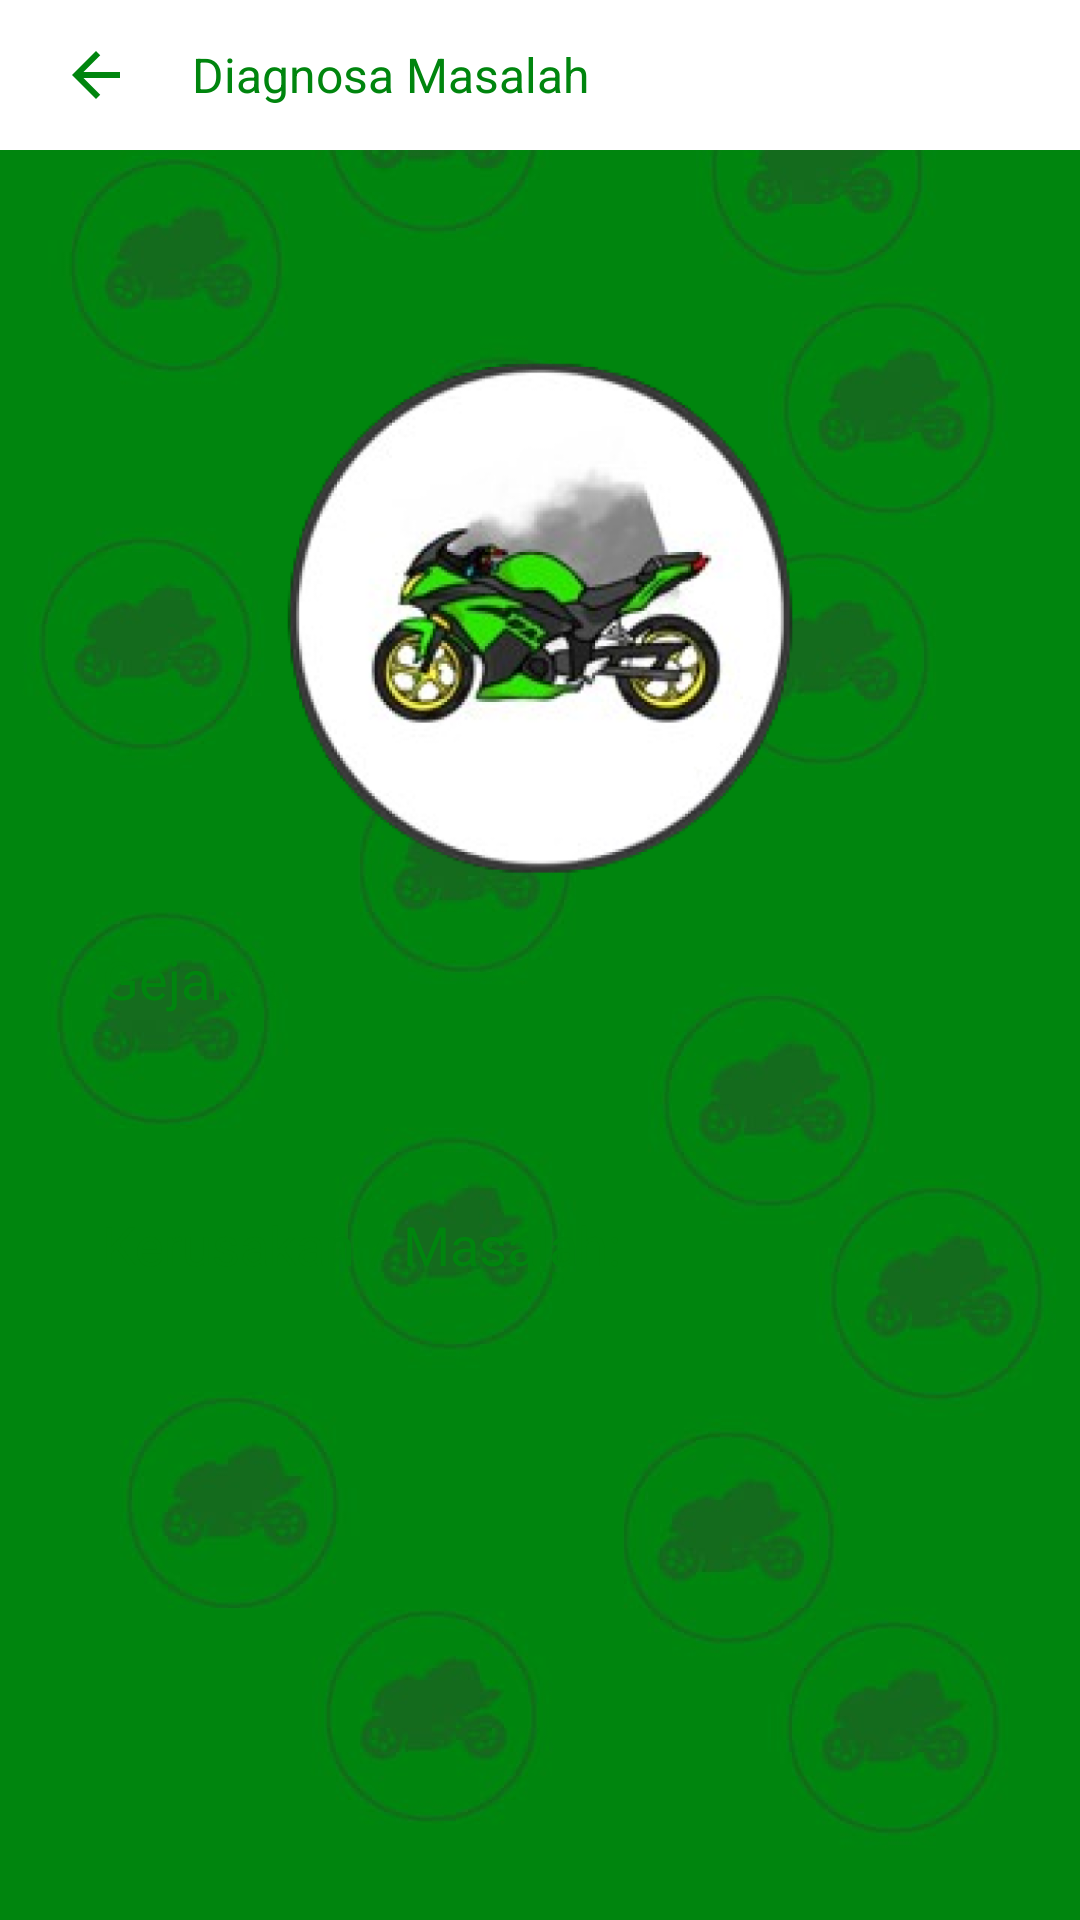

Where to tap for icons on this 1080 x 1920 app screen, as [x,y]:
arrow back: [96,75]
